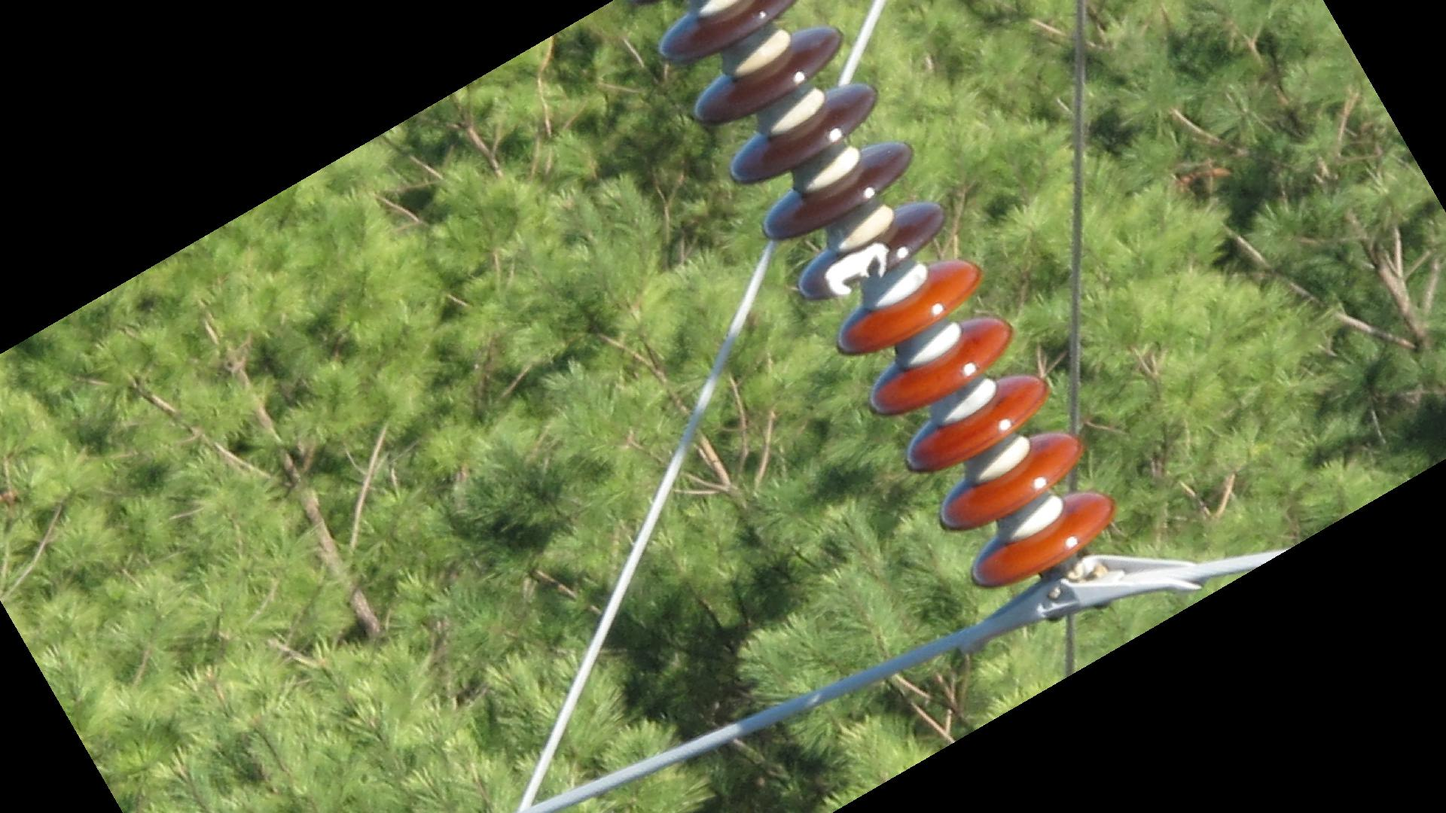insulator: (650, 1, 1121, 598)
insulator_breakage: (813, 236, 898, 299)
